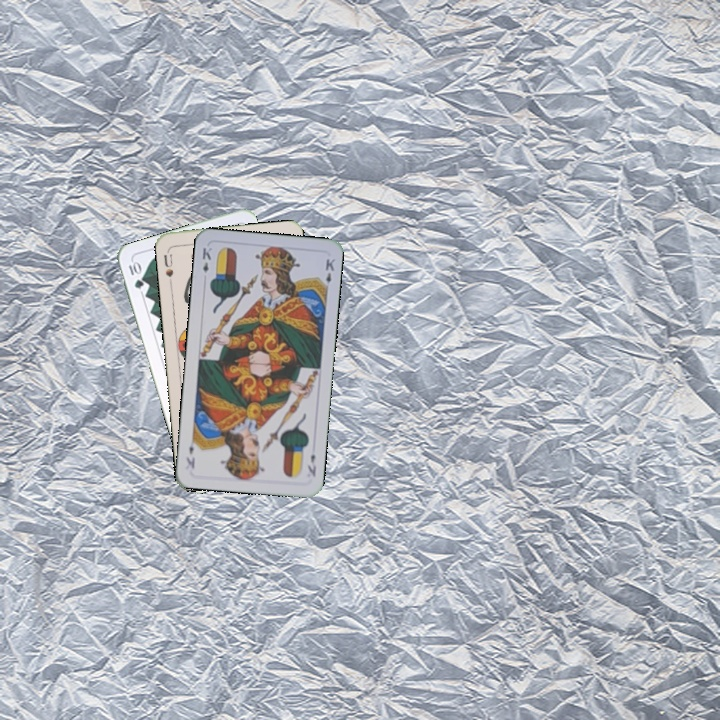EK: (198, 243, 214, 275), (303, 450, 319, 479)
G10: (124, 257, 146, 291)
SU: (160, 246, 176, 287)
